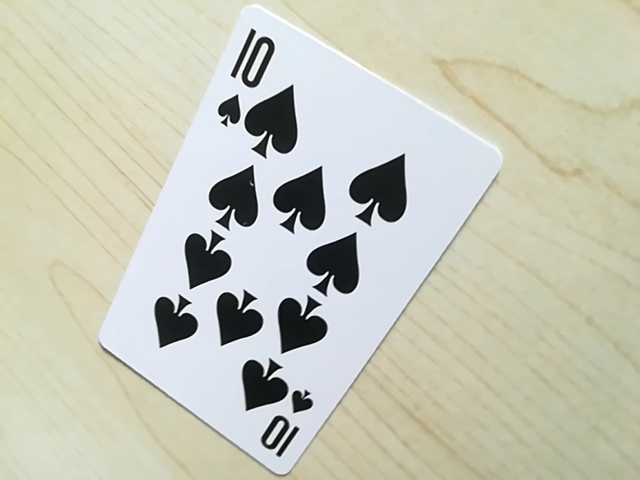ht 10: (211, 20, 284, 136), (249, 392, 319, 463)
